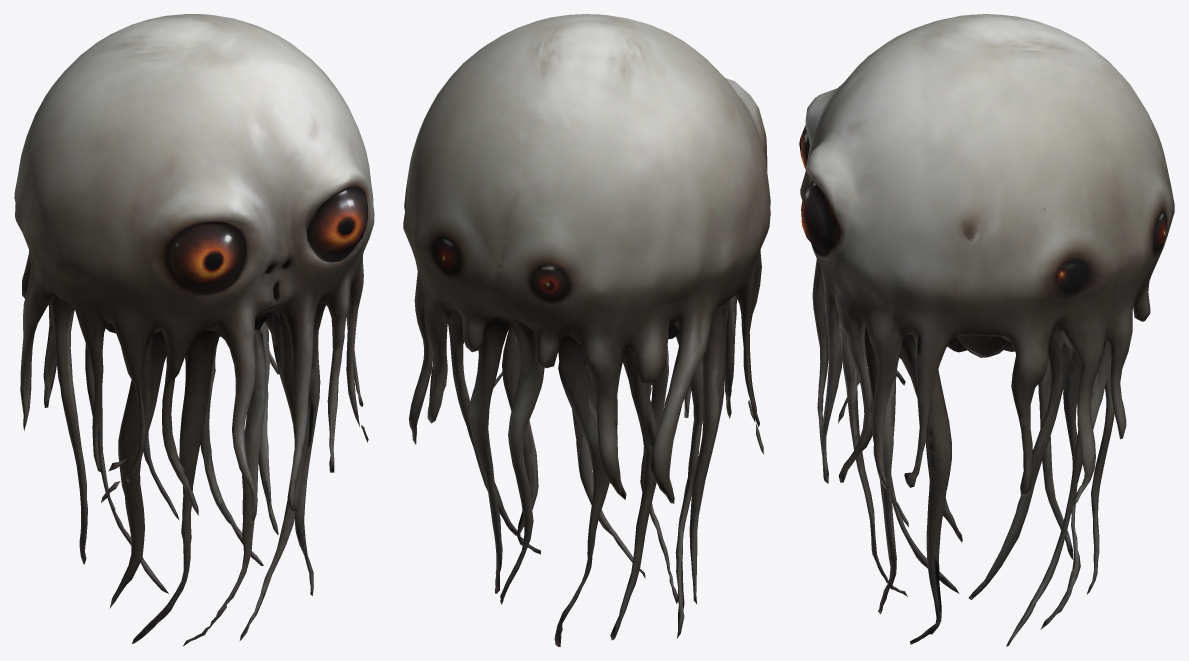
The model's file is glasst.glb.
The picture shows the model from 3 angles, left to right: view 1: azimuth 30°, elevation 25°; view 2: azimuth 150°, elevation 25°; view 3: azimuth 270°, elevation 25°; orthographic projection. The views are drawn at different scales.
Bounding box in the file's own units: 1.1 × 2.01 × 1.14.
1 material, 1 textured.
